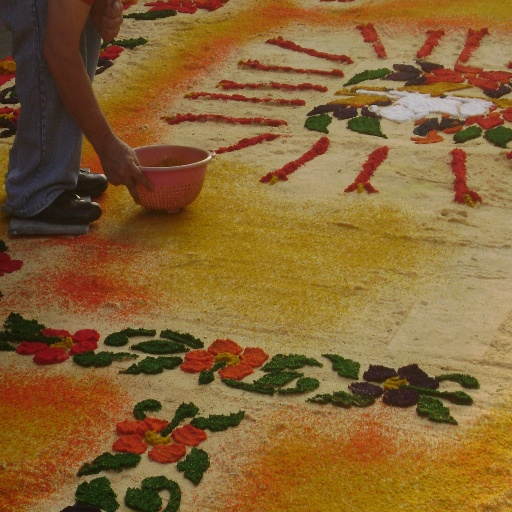hand: (94, 125, 138, 192), (88, 0, 124, 43)
